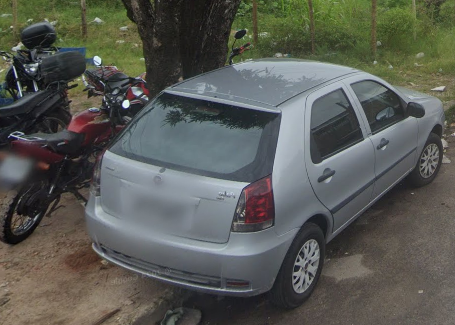car: (85, 59, 445, 297)
